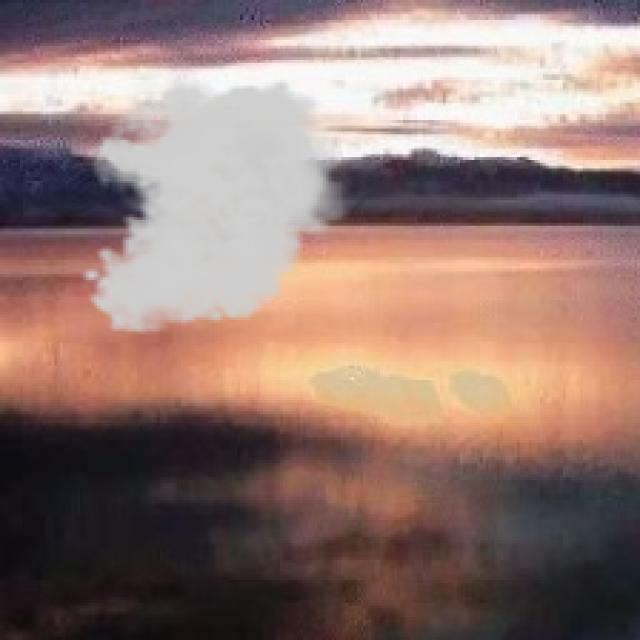smoke: (80, 63, 357, 337)
